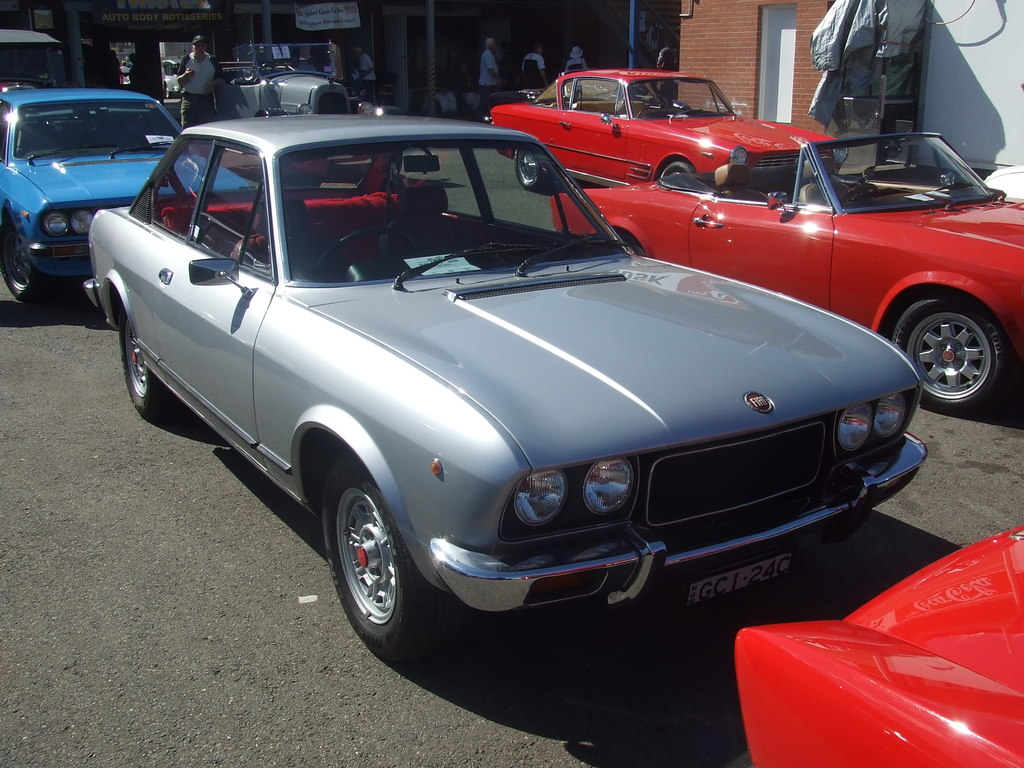Car: (106, 101, 918, 673)
